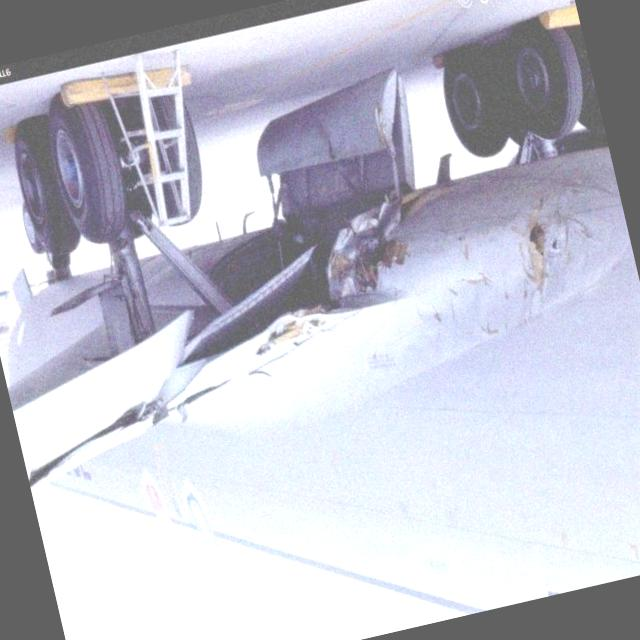crack: (509, 194, 572, 291)
dent: (414, 255, 536, 353)
